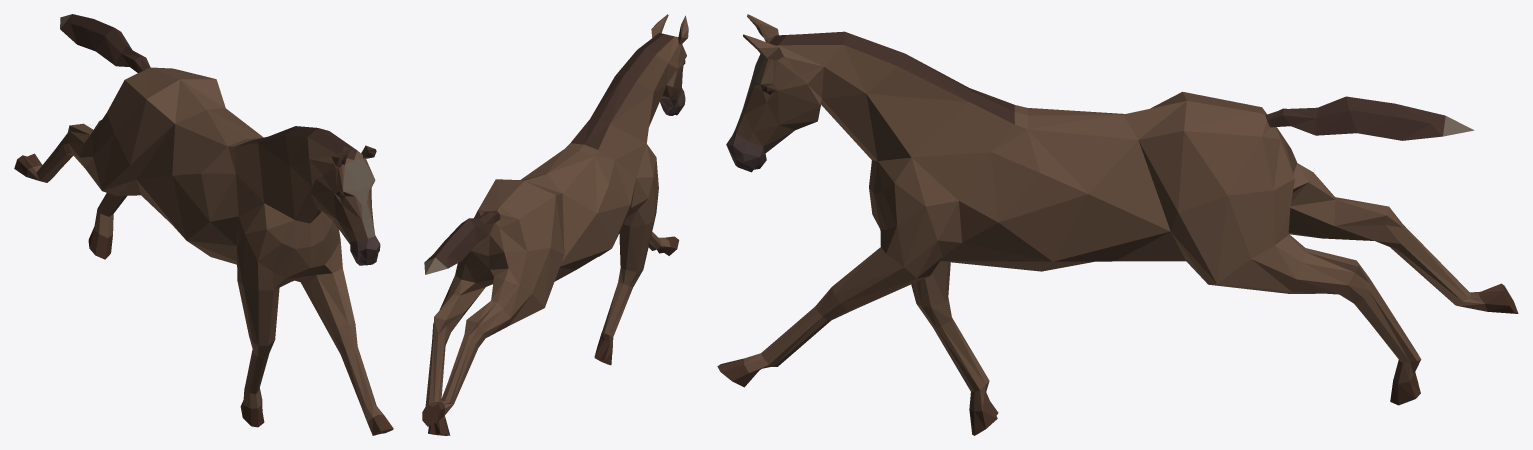
Rendered from Horse.glb.
3 renders of one model, left to right at view 1: azimuth 30°, elevation 25°; view 2: azimuth 150°, elevation 25°; view 3: azimuth 270°, elevation 25°, orthographic. The views are drawn at different scales.
Parts seen in each view (by area): view 1: mesh_0; view 2: mesh_0; view 3: mesh_0.
Part boxes in pixels (x1=…): mesh_0: x1=14, y1=14, x2=393, y2=435; mesh_0: x1=422, y1=14, x2=688, y2=435; mesh_0: x1=717, y1=14, x2=1518, y2=435.
Bounding box in the file's own units: 62.96 × 187 × 323.
